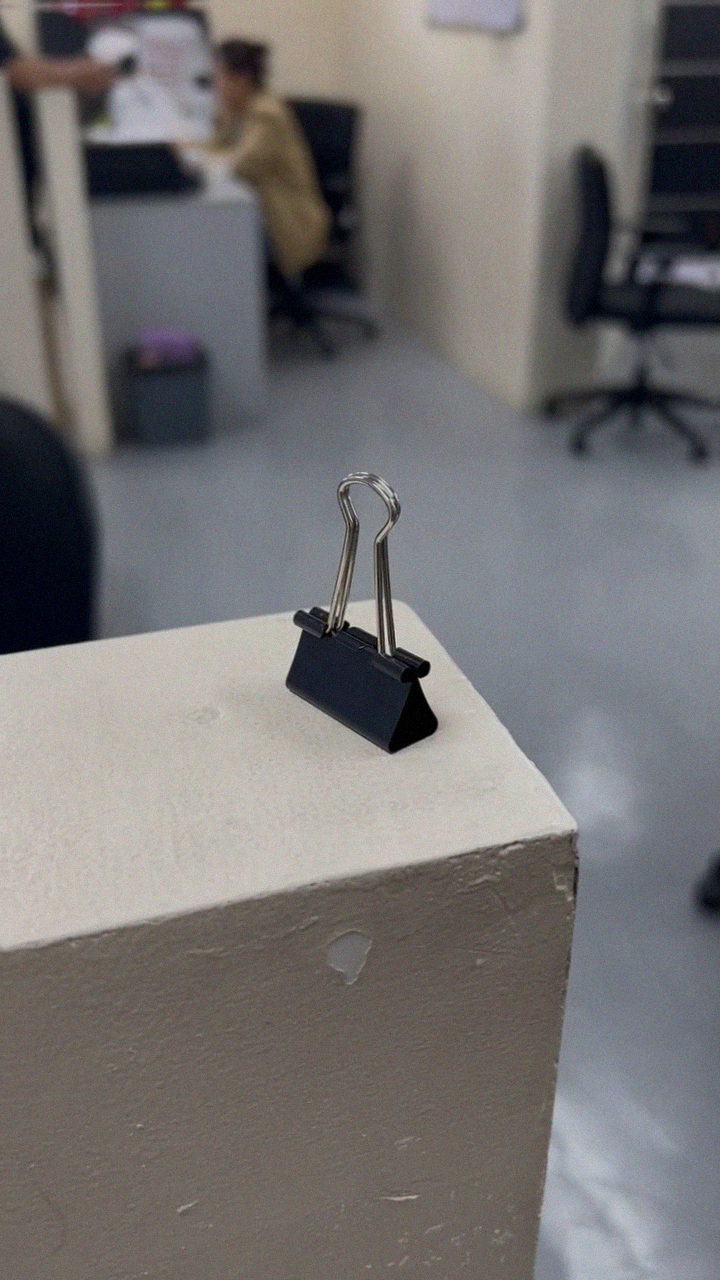kep_giay: (270, 468, 447, 760)
